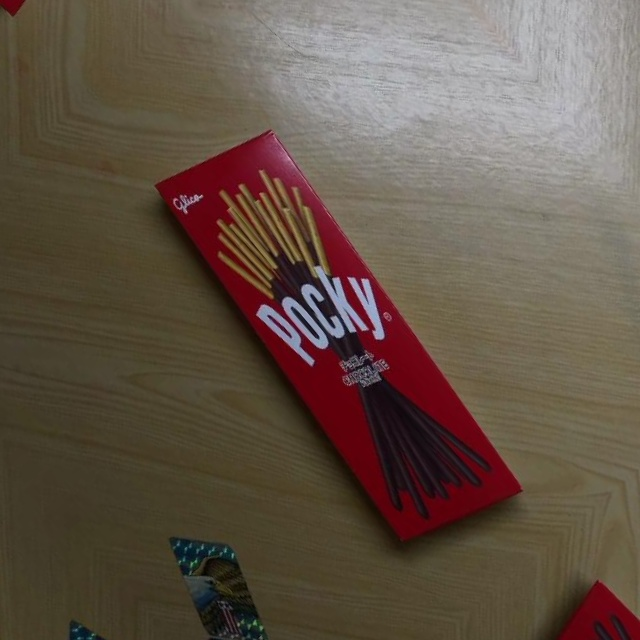Pocky: (121, 103, 553, 573)
